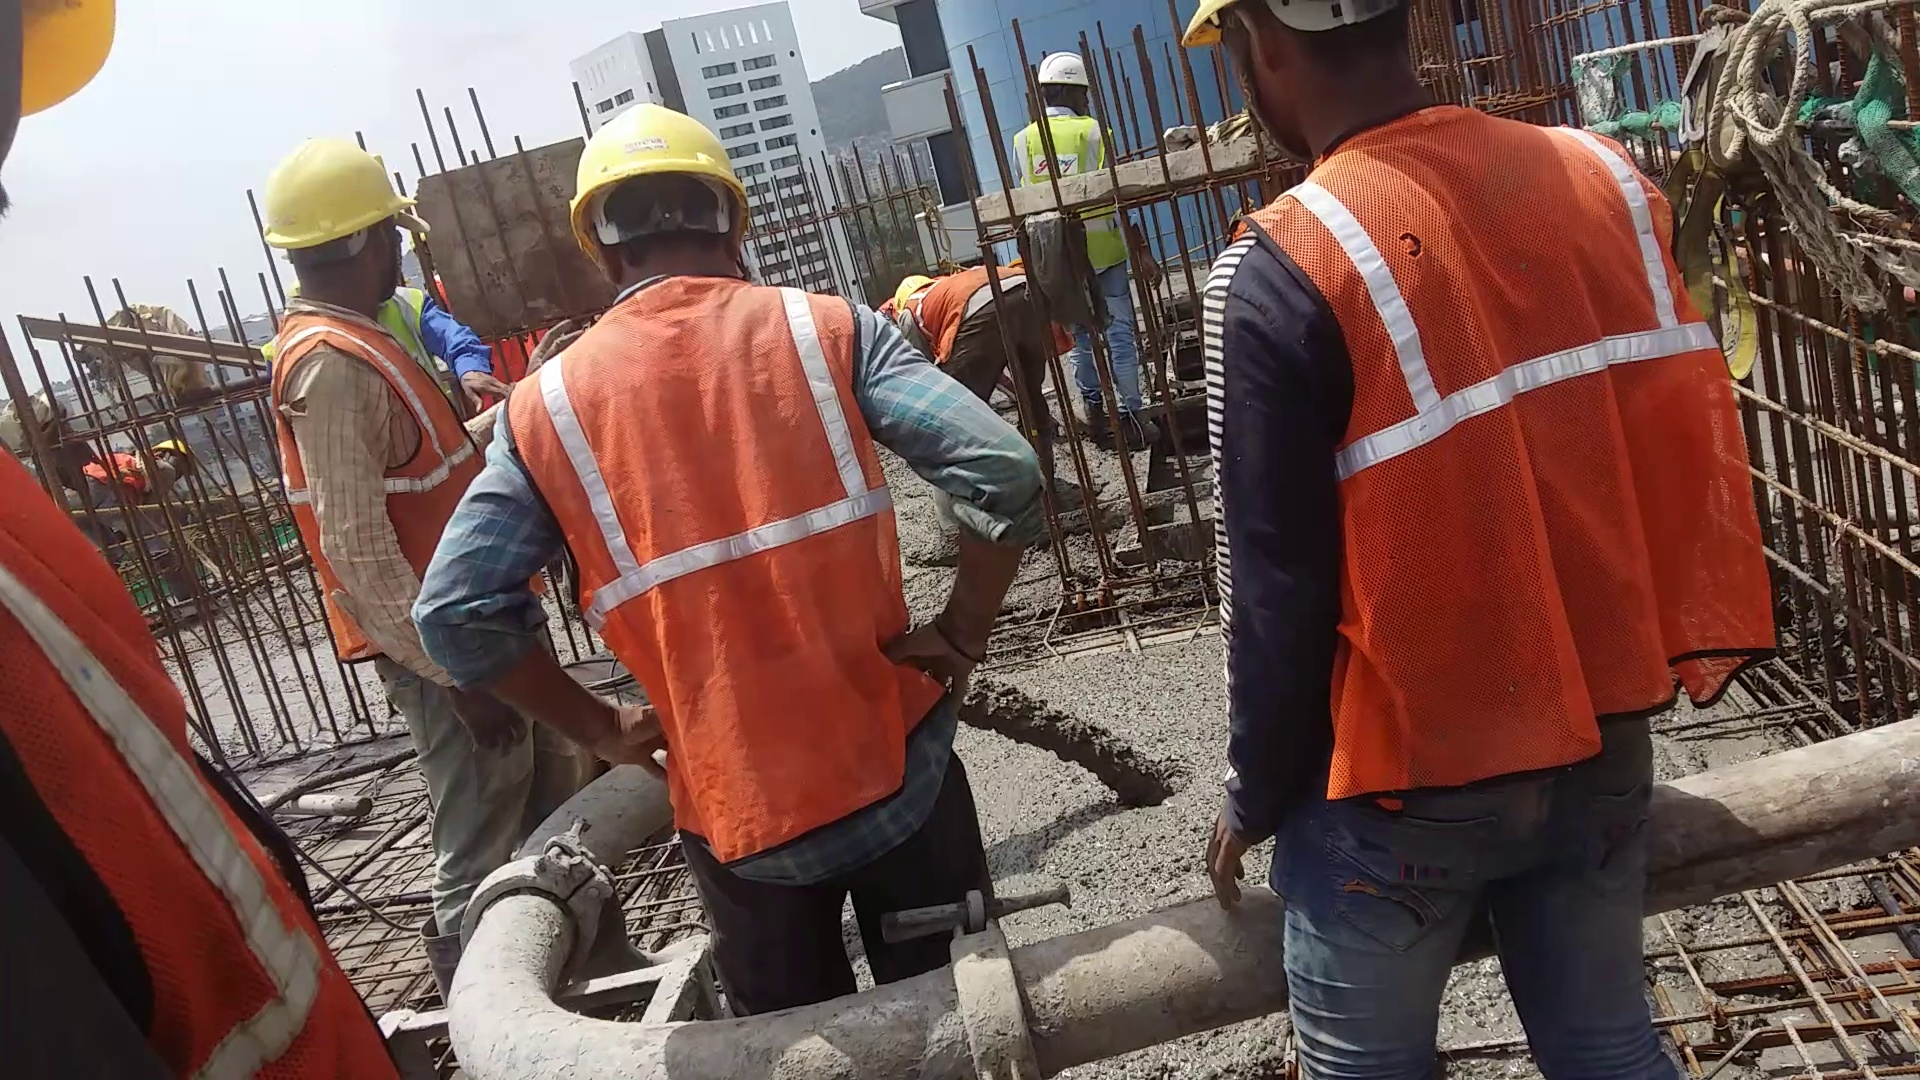SAFE: (1222, 1, 1746, 802), (500, 95, 905, 862), (253, 137, 477, 673)
